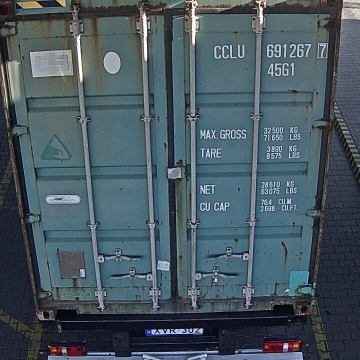serial_id: (214, 43, 327, 58)
